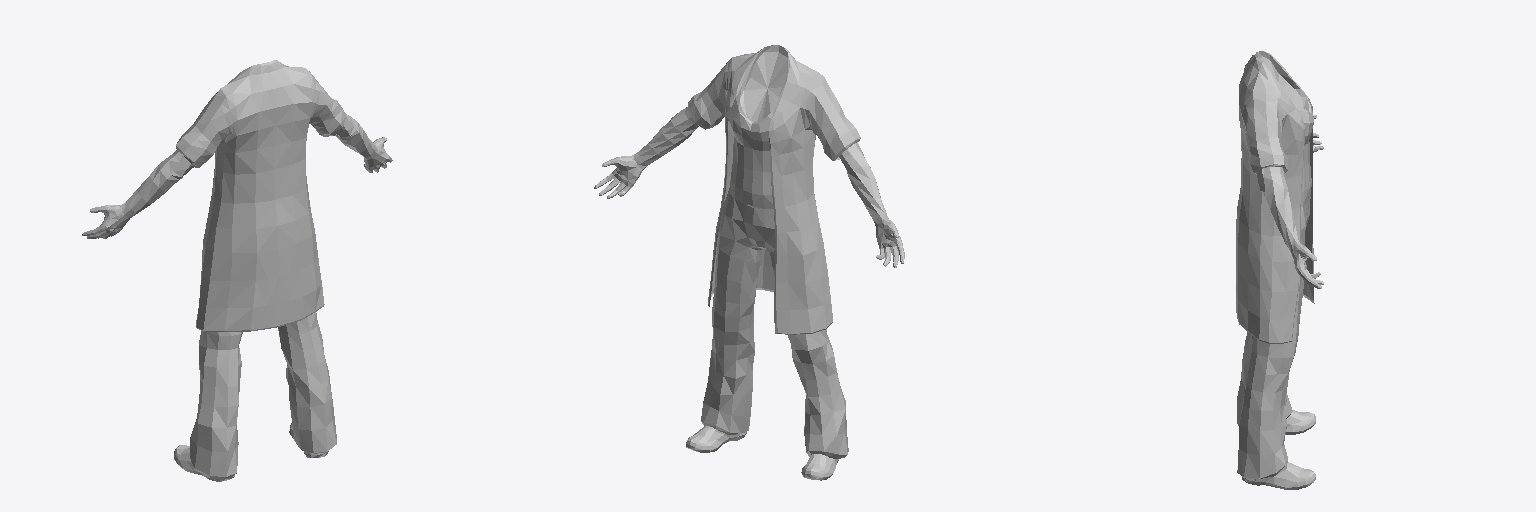
The model's file is Scientist body (original).obj.
3 views of the same model, side by side, from view 1: azimuth 30°, elevation 25°; view 2: azimuth 150°, elevation 25°; view 3: azimuth 270°, elevation 25° (orthographic).
Parts seen in each view (by area): view 1: 0-model-0-0_0-model-0, 0-model-0-0_0-mod_0-m; view 2: 0-model-0-0_0-model-0, 0-model-0-0_0-mod_0-m; view 3: 0-model-0-0_0-model-0, 0-model-0-0_0-mod_0-m.
Part boxes in pixels (bbox=[...]): 0-model-0-0_0-model-0: bbox=[174, 60, 345, 481]; 0-model-0-0_0-mod_0-m: bbox=[82, 114, 392, 238]; 0-model-0-0_0-model-0: bbox=[686, 45, 860, 480]; 0-model-0-0_0-mod_0-m: bbox=[594, 106, 904, 267]; 0-model-0-0_0-model-0: bbox=[1236, 51, 1315, 489]; 0-model-0-0_0-mod_0-m: bbox=[1256, 115, 1323, 288].
Size of the model in its own units: 1.31 by 1.64 by 0.3251.